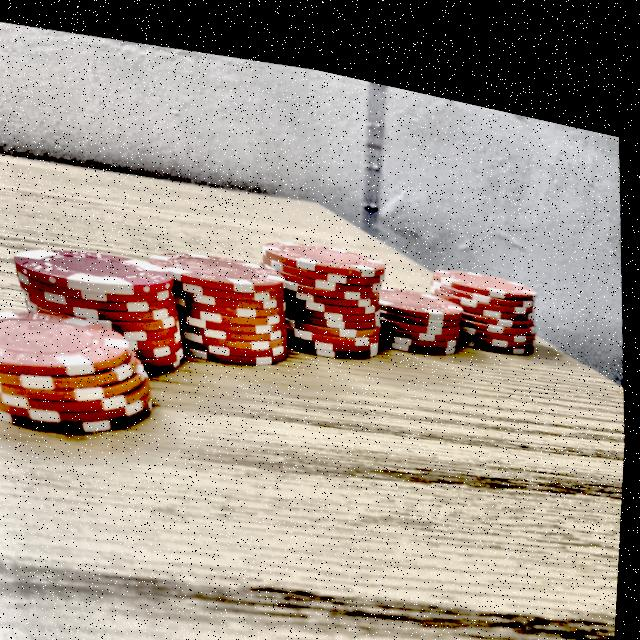Chip: (9, 216, 195, 384), (0, 290, 170, 473), (246, 187, 406, 374), (148, 224, 295, 378), (423, 230, 565, 349), (362, 245, 471, 352)
